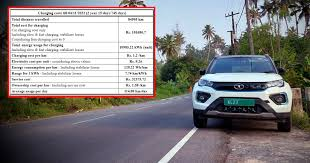Tata Nexon: (190, 53, 293, 133)
